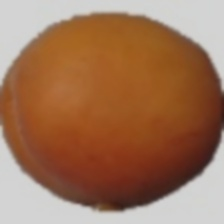apricot: (6, 25, 200, 180)
